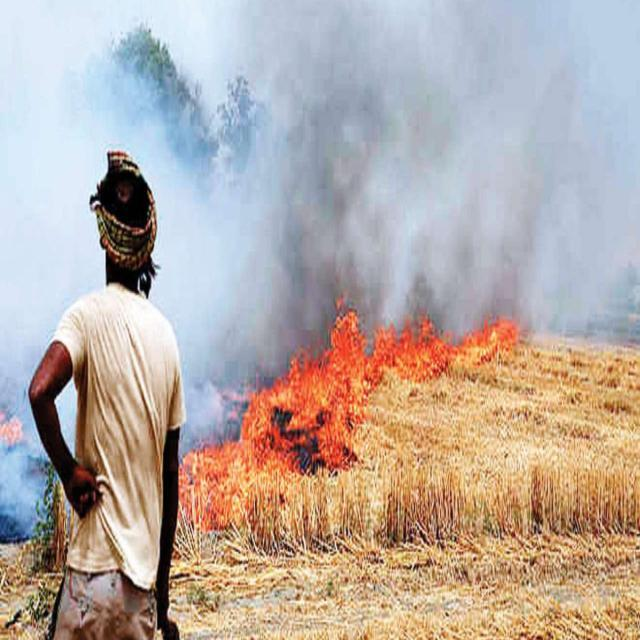Fire: (338, 305, 521, 378), (258, 384, 352, 468)
Smoke: (267, 18, 628, 293), (0, 4, 100, 308), (175, 170, 256, 370)
